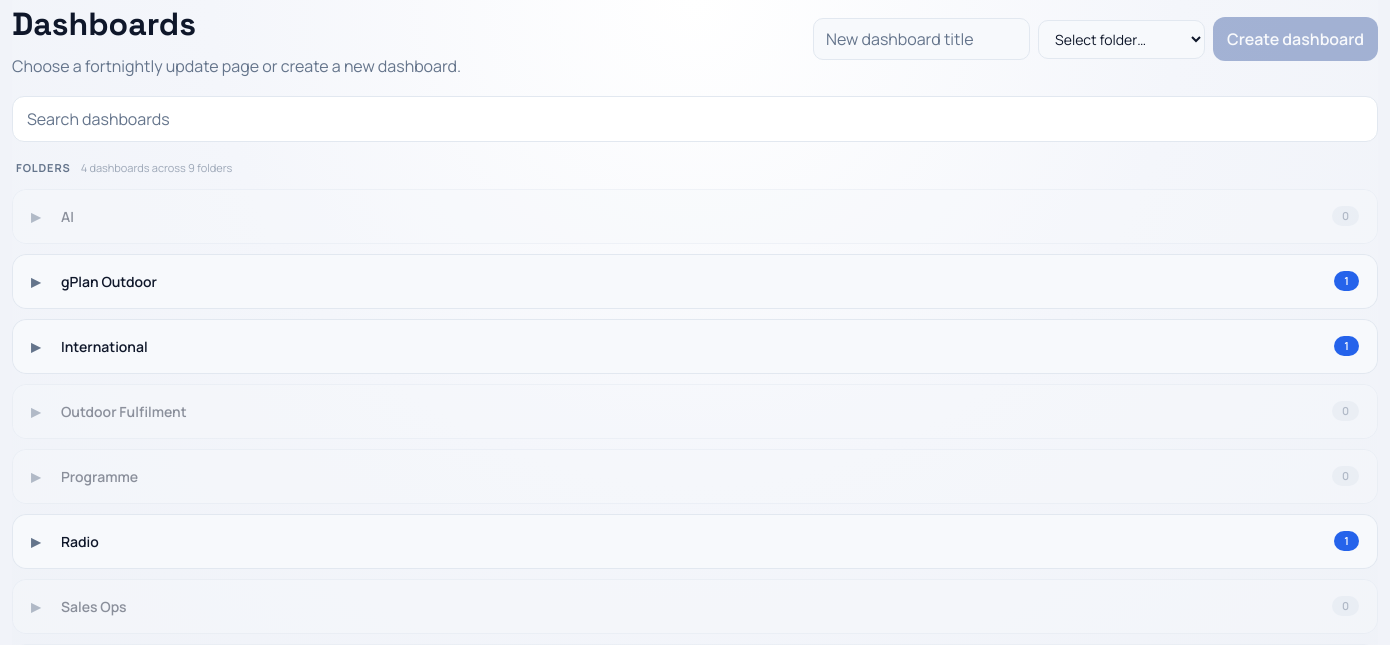
DashboardList — folders › expands a folder on click then collapses it again
expect the text "Radio Weekly" is not shown: met
Click the button with class "folder-header" showing "▸ Radio 1": (80, 541) [13,514,1377,568]
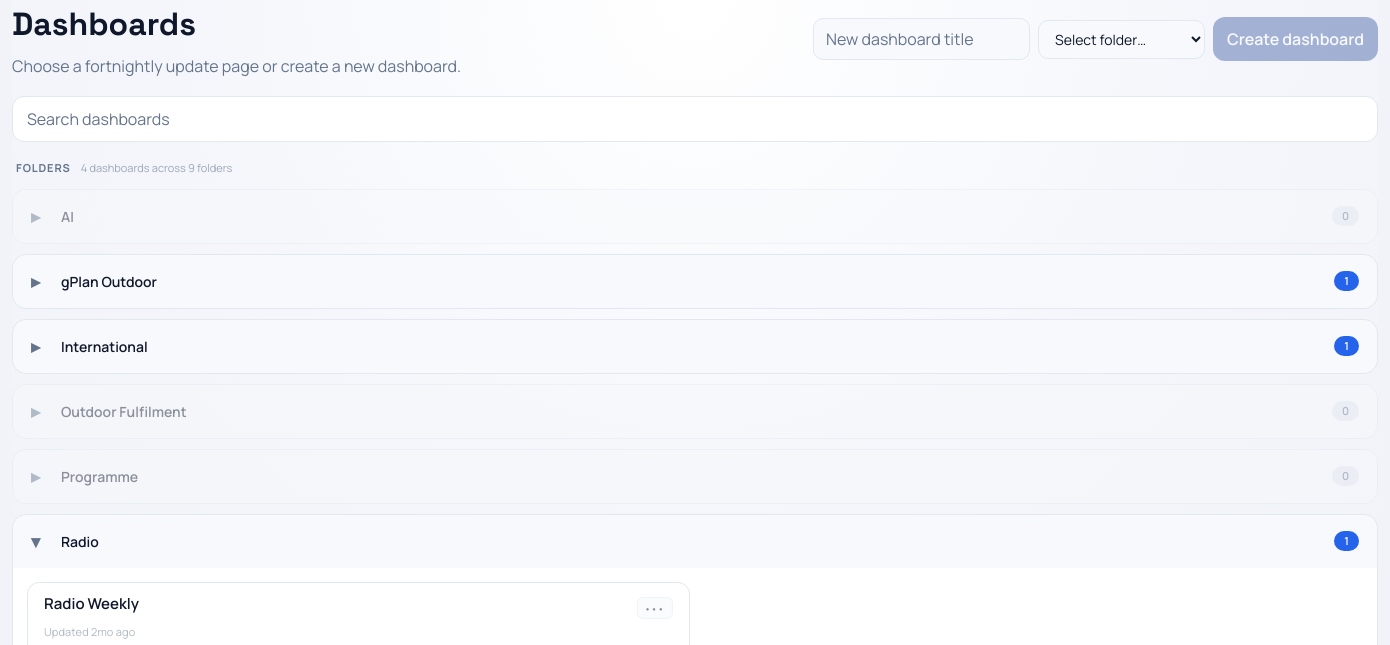
expect the heading "Radio Weekly" is shown: met, box [44,592,139,614]
// Collapse again
Click the button with class "folder-header" showing "▾ Radio 1": (80, 541) [13,514,1377,568]
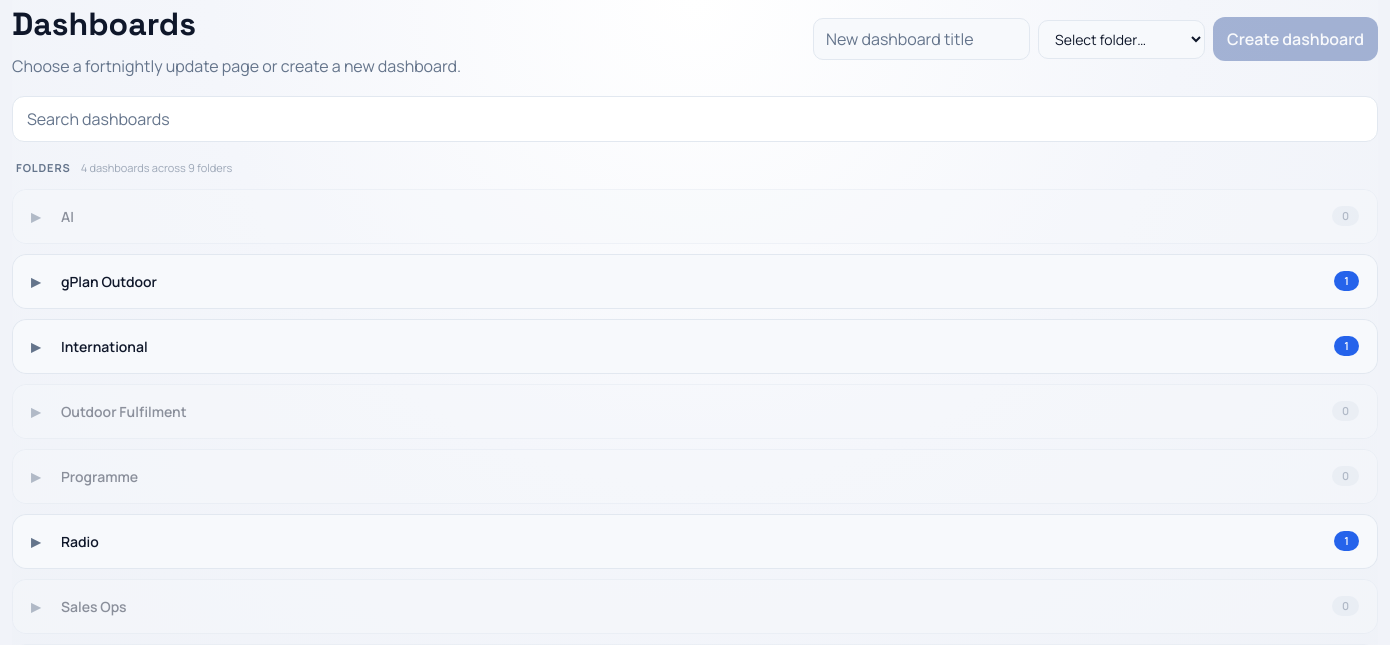
expect the link "Radio Weekly" is gone: met
